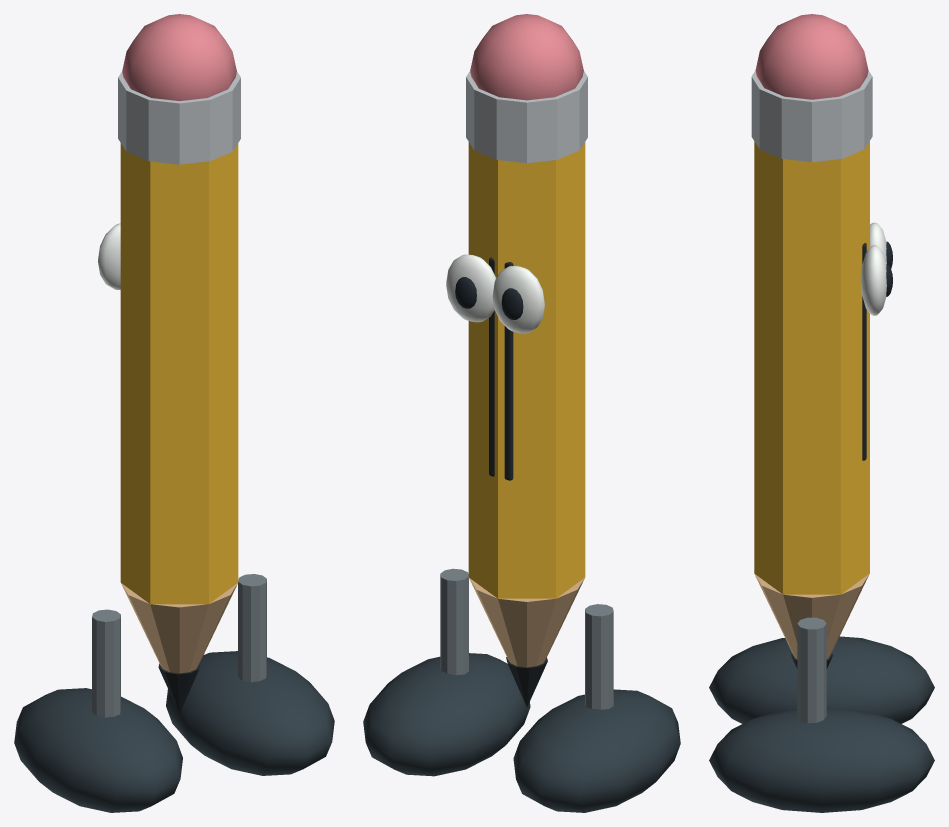
Rendered from pencil.glb.
The picture shows the model from 3 angles, left to right: view 1: azimuth 30°, elevation 25°; view 2: azimuth 150°, elevation 25°; view 3: azimuth 270°, elevation 25°; orthographic projection.
Visible parts, largest first — view 1: Writing barrel, Rubber foot.001, Rubber foot, Cylinder, Pink eraser, Cone, Flexible leg, Flexible leg.001, Object eye.001, Cone.001; view 2: Writing barrel, Rubber foot.001, Rubber foot, Cylinder, Pink eraser, Cone, Flexible leg, Flexible leg.001, Brand stripe, Object eye.001, Object eye, Cone.001; view 3: Writing barrel, Rubber foot, Rubber foot.001, Cylinder, Pink eraser, Cone, Flexible leg, Object eye, Brand stripe.
Boxes of the visible parts, left/top/right/bottom form: Writing barrel: left=120, top=143, right=238, bottom=604; Rubber foot.001: left=14, top=688, right=182, bottom=812; Rubber foot: left=166, top=651, right=334, bottom=775; Cylinder: left=118, top=71, right=240, bottom=164; Pink eraser: left=122, top=14, right=236, bottom=101; Cone: left=121, top=583, right=237, bottom=673; Flexible leg: left=238, top=574, right=266, bottom=682; Flexible leg.001: left=92, top=609, right=120, bottom=717; Object eye.001: left=98, top=223, right=120, bottom=289; Cone.001: left=158, top=663, right=200, bottom=713; Writing barrel: left=468, top=142, right=585, bottom=598; Rubber foot.001: left=513, top=689, right=680, bottom=812; Rubber foot: left=363, top=653, right=530, bottom=776; Cylinder: left=466, top=71, right=587, bottom=163; Pink eraser: left=470, top=14, right=583, bottom=100; Cone: left=469, top=578, right=584, bottom=667; Flexible leg: left=440, top=568, right=468, bottom=675; Flexible leg.001: left=585, top=604, right=613, bottom=709; Brand stripe: left=489, top=257, right=513, bottom=480; Object eye.001: left=492, top=265, right=544, bottom=333; Object eye: left=446, top=254, right=496, bottom=322; Cone.001: left=506, top=657, right=547, bottom=707; Writing barrel: left=754, top=141, right=869, bottom=594; Rubber foot: left=709, top=708, right=934, bottom=812; Rubber foot.001: left=709, top=636, right=934, bottom=723; Cylinder: left=751, top=70, right=872, bottom=162; Pink eraser: left=755, top=14, right=868, bottom=99; Cone: left=754, top=573, right=869, bottom=658; Flexible leg: left=797, top=617, right=826, bottom=723; Object eye: left=860, top=245, right=886, bottom=315; Brand stripe: left=862, top=243, right=866, bottom=460.
Bounding box in the file's own units: 0.4792 × 1.24 × 0.34.
